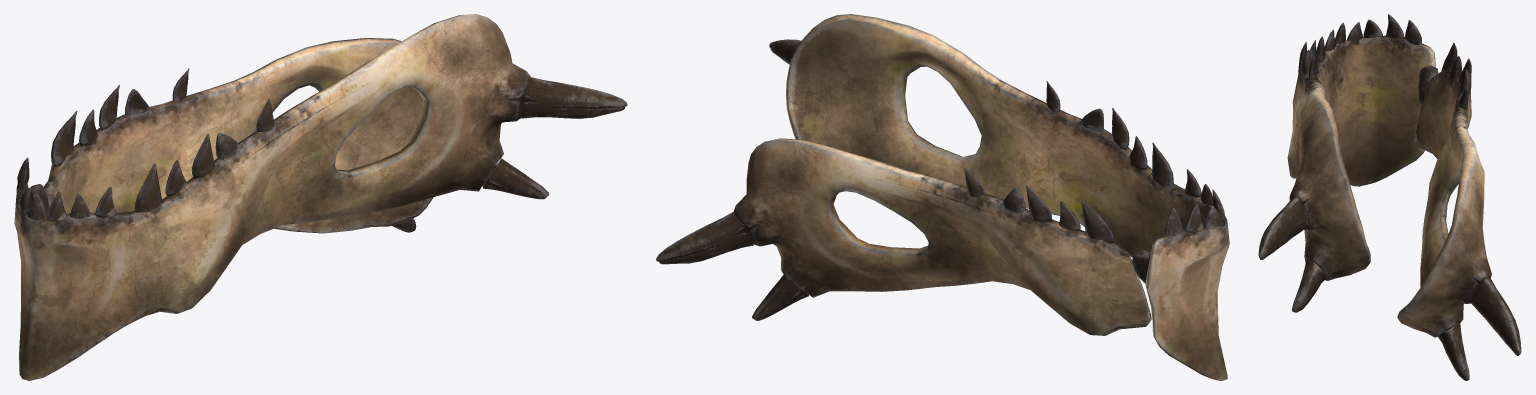
3 renders of one model, left to right at view 1: azimuth 30°, elevation 25°; view 2: azimuth 150°, elevation 25°; view 3: azimuth 270°, elevation 25°, orthographic. The views are drawn at different scales.
Parts seen in each view (by area): view 1: SM_Dragon_Head_Jaw_01v1_LOD0; view 2: SM_Dragon_Head_Jaw_01v1_LOD0; view 3: SM_Dragon_Head_Jaw_01v1_LOD0.
Boxes of the visible parts, x1=… form: SM_Dragon_Head_Jaw_01v1_LOD0: x1=14, y1=14, x2=627, y2=380; SM_Dragon_Head_Jaw_01v1_LOD0: x1=656, y1=14, x2=1229, y2=380; SM_Dragon_Head_Jaw_01v1_LOD0: x1=1258, y1=14, x2=1521, y2=380.
Bounding box in the file's own units: 17.03 × 8.27 × 7.88.
Materials: 4 (4 with a texture image).
